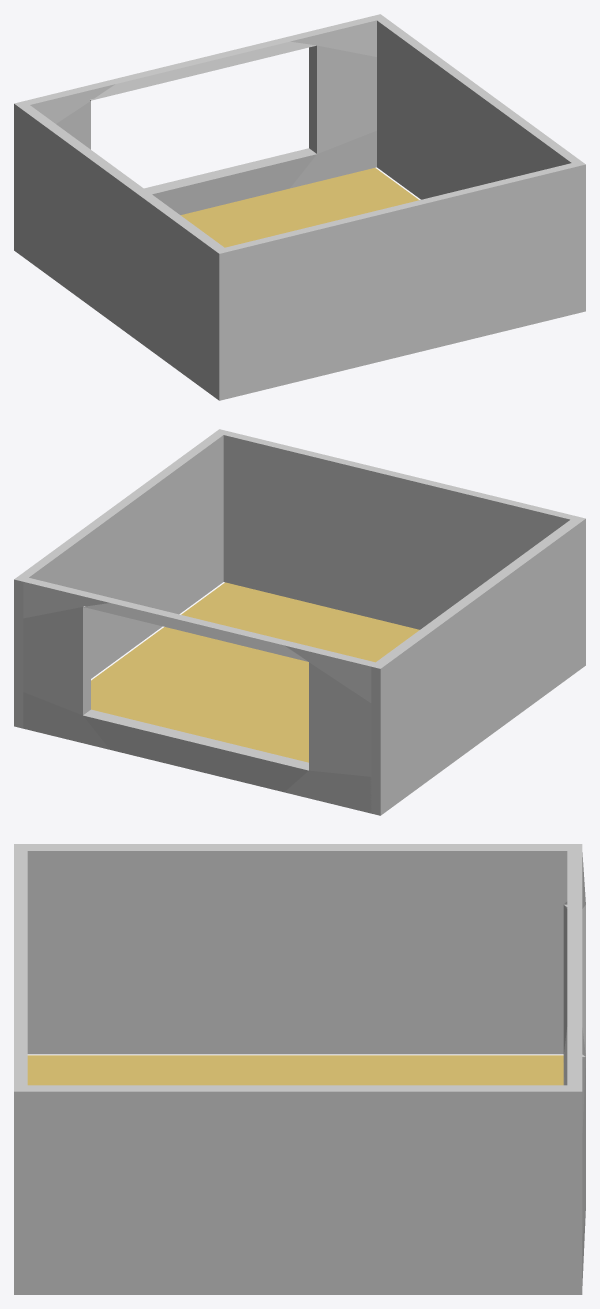
File: room.fbx
3 views of the same model, one above another, from view 1: azimuth 30°, elevation 25°; view 2: azimuth 150°, elevation 25°; view 3: azimuth 270°, elevation 25° (orthographic). The views are drawn at different scales.
Visible parts, largest first — view 1: Cube, Plane; view 2: Cube, Plane; view 3: Cube, Plane.
Part boxes in pixels (x1=…): Cube: x1=14, y1=14, x2=585, y2=400; Plane: x1=180, y1=168, x2=419, y2=247; Cube: x1=14, y1=429, x2=585, y2=815; Plane: x1=91, y1=582, x2=419, y2=762; Cube: x1=14, y1=844, x2=585, y2=1294; Plane: x1=27, y1=1055, x2=563, y2=1085.
Bounding box in the file's own units: 1608 × 618 × 1570.
